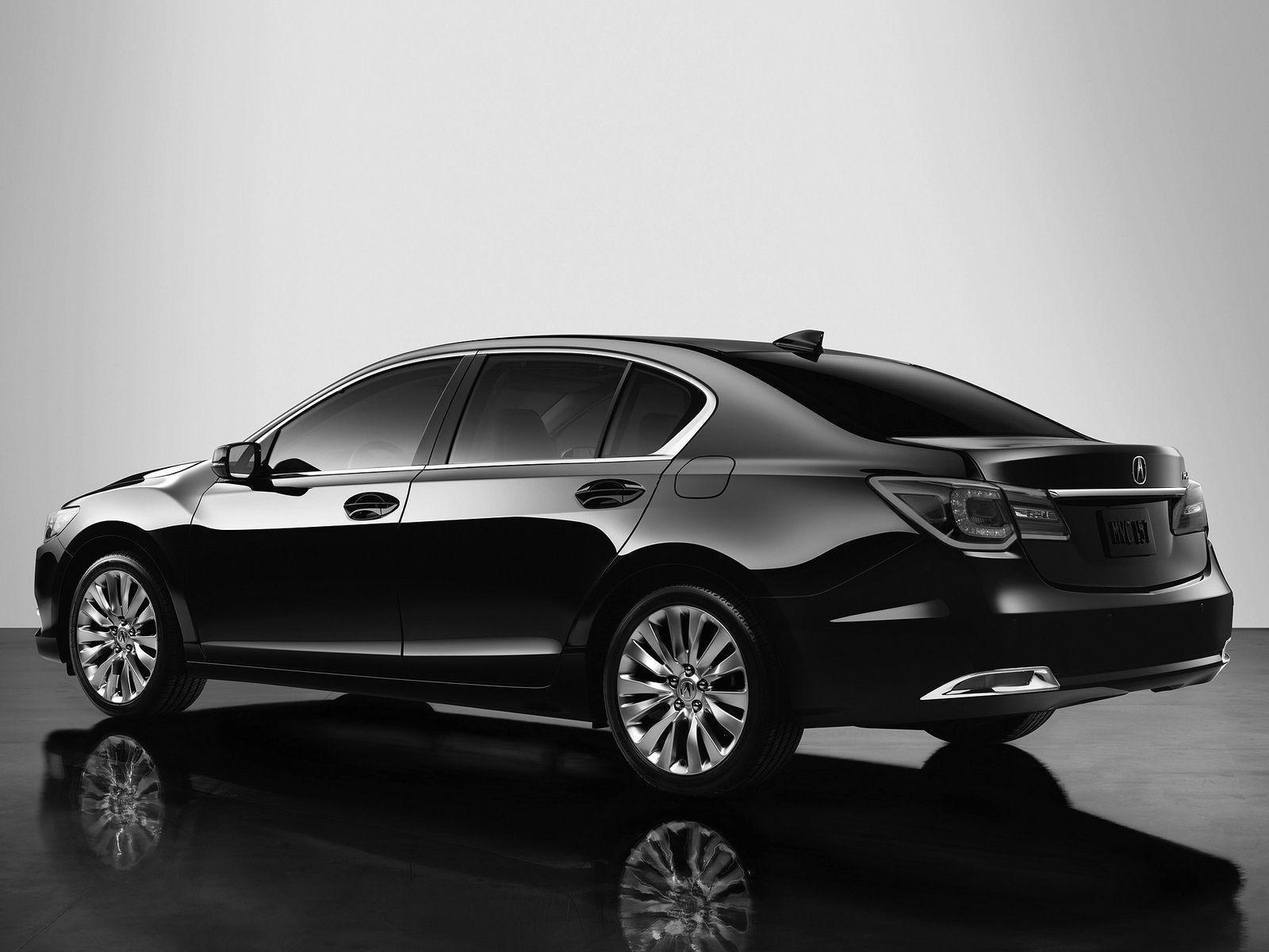Car boot: (873, 421, 1234, 594)
Fender - -F-L-: (50, 456, 211, 704)
Fender - -R-L-: (566, 319, 928, 769)
Front bumper: (24, 535, 83, 673)
Headlight - -L-: (38, 500, 76, 546)
Passenger-s door - -F-L-: (170, 333, 486, 715)
Passenger-s door - -R-L-: (388, 319, 693, 748)
Rear bumper: (760, 555, 1239, 735)
Rear light - -L-: (871, 473, 1026, 564)
Rear light - -R-: (1163, 476, 1218, 540)
Side bumper - -L-: (173, 619, 612, 735)
Side mirror - -L-: (210, 441, 275, 490)
